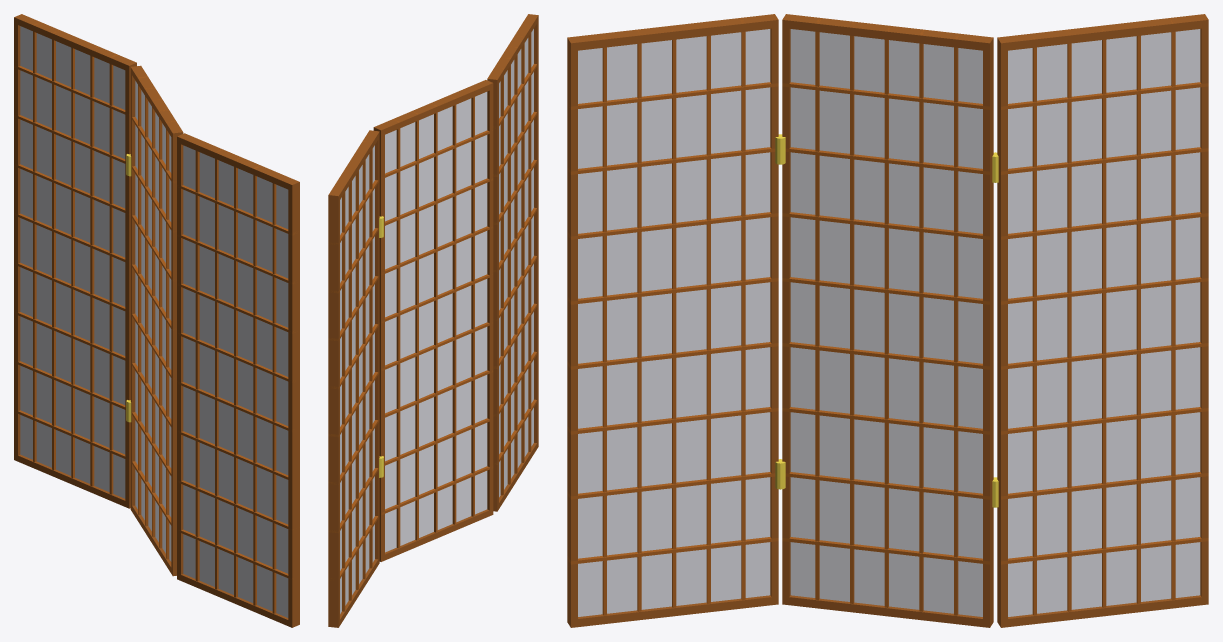
File: Shoji Blinds.fbx
3 views of the same model, side by side, from view 1: azimuth 30°, elevation 25°; view 2: azimuth 150°, elevation 25°; view 3: azimuth 270°, elevation 25° (orthographic). The views are drawn at different scales.
Parts seen in each view (by area): view 1: pCube29, pCube26, pCube25, pCube28, pCube24, pCube23, pCube22, pCube27, pCube21; view 2: pCube22, pCube23, pCube28, pCube25, pCube27, pCube26, pCube29, pCube21, pCube24; view 3: pCube26, pCube22, pCube29, pCube25, pCube23, pCube28, pCube27, pCube24, pCube21, pCylinder5.
Part boxes in pixels (x1,y1,x2,y2): pCube29: (20,26,125,498); pCube26: (183,145,288,617); pCube25: (177,150,296,613); pCube28: (14,22,129,494); pCube24: (177,133,299,627); pCube23: (130,76,176,559); pCube22: (135,81,171,561); pCube27: (14,14,136,508); pCube21: (130,65,183,576); pCube22: (385,92,487,552); pCube23: (380,88,493,548); pCube28: (328,141,379,611); pCube25: (493,25,538,495); pCube27: (328,130,379,627); pCube26: (499,29,533,497); pCube29: (340,145,374,613); pCube21: (373,80,493,561); pCube24: (487,14,538,511); pCube26: (578,29,770,616); pCube22: (790,29,982,616); pCube29: (1008,29,1200,616); pCube25: (567,18,778,615); pCube23: (782,18,993,615); pCube28: (997,18,1208,615); pCube27: (997,14,1208,627); pCube24: (567,14,778,627); pCube21: (782,14,993,627); pCylinder5: (775,134,998,507).
Bounding box in the file's own units: 19.39 × 180 × 179.
